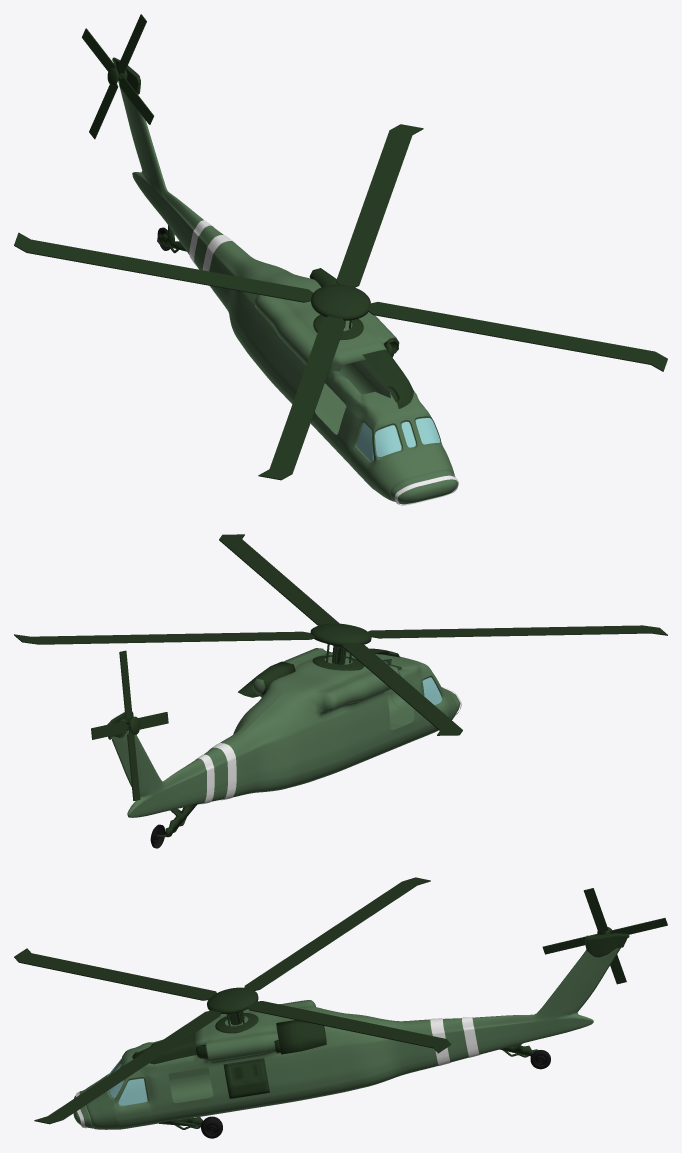
File: Helicopter.dae
3 renders of one model, top to bottom at view 1: azimuth 30°, elevation 25°; view 2: azimuth 150°, elevation 25°; view 3: azimuth 270°, elevation 25°, orthographic. The views are drawn at different scales.
Parts seen in each view (by area): view 1: Mesh_002, Mesh_015, Mesh_013, helicopter_window, Mesh_006, Mesh_018, body_stripes; view 2: Mesh_002, Mesh_015, Mesh_013, Mesh_006, body_stripes, Mesh_016; view 3: Mesh_002, Mesh_015, Mesh_013, Mesh_004, Mesh_016, Mesh_006, body_stripes, Mesh_003, helicopter_window, Mesh_018, Mesh_008, Mesh_009.
Part boxes in pixels (bbox=[...]): Mesh_002: bbox=[118, 80, 457, 504]; Mesh_015: bbox=[14, 124, 667, 480]; Mesh_013: bbox=[82, 14, 153, 139]; helicopter_window: bbox=[356, 418, 440, 461]; Mesh_006: bbox=[311, 284, 370, 328]; Mesh_018: bbox=[362, 349, 413, 408]; body_stripes: bbox=[189, 220, 458, 505]; Mesh_002: bbox=[112, 648, 460, 817]; Mesh_015: bbox=[14, 534, 667, 735]; Mesh_013: bbox=[91, 650, 168, 800]; Mesh_006: bbox=[310, 623, 371, 664]; body_stripes: bbox=[195, 687, 461, 804]; Mesh_016: bbox=[238, 661, 295, 697]; Mesh_002: bbox=[73, 947, 620, 1129]; Mesh_015: bbox=[14, 877, 451, 1124]; Mesh_013: bbox=[542, 888, 667, 984]; Mesh_004: bbox=[223, 1058, 269, 1098]; Mesh_016: bbox=[276, 1020, 326, 1054]; Mesh_006: bbox=[207, 987, 258, 1026]; body_stripes: bbox=[76, 1017, 479, 1128]; Mesh_003: bbox=[584, 933, 629, 957]; helicopter_window: bbox=[109, 1058, 147, 1105]; Mesh_018: bbox=[132, 1033, 196, 1064]; Mesh_008: bbox=[215, 1013, 258, 1033]; Mesh_009: bbox=[201, 1116, 222, 1138].
Bounding box in the file's own units: 2.39 × 3.52 × 1.41.
